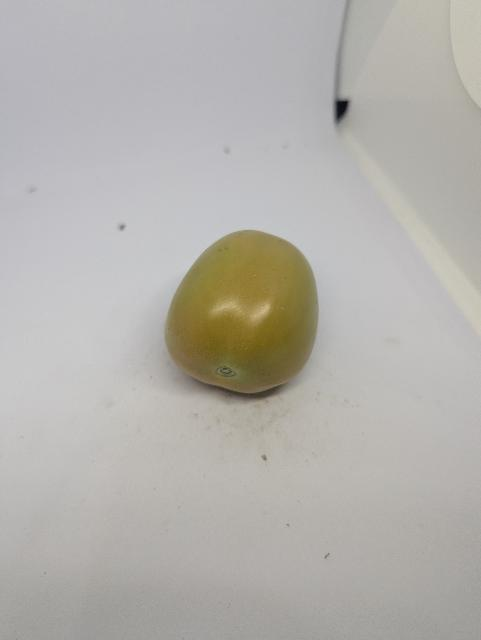breaker: (167, 220, 329, 405)
